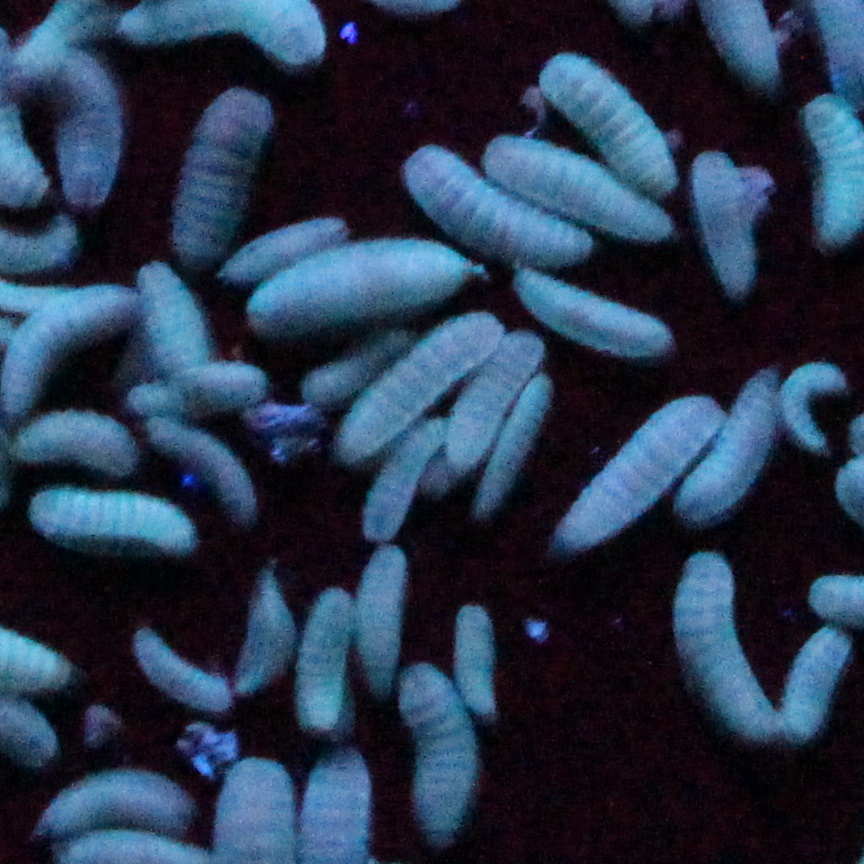larve: (547, 388, 725, 548), (398, 138, 590, 278), (674, 552, 796, 767), (334, 314, 509, 459), (165, 79, 281, 267), (252, 234, 474, 332), (481, 134, 674, 245), (529, 56, 678, 194), (25, 32, 136, 199), (1, 283, 141, 412), (685, 358, 792, 521), (512, 263, 672, 370), (398, 668, 489, 834), (27, 479, 210, 558), (143, 403, 267, 516), (690, 147, 772, 305), (445, 332, 543, 456), (360, 407, 449, 536), (38, 767, 203, 836), (474, 378, 554, 519), (212, 210, 347, 287), (127, 630, 245, 714), (138, 256, 210, 387), (7, 412, 149, 472), (354, 541, 409, 690), (232, 565, 296, 688), (136, 359, 278, 414), (783, 625, 850, 741), (296, 592, 352, 728), (449, 598, 509, 721), (783, 354, 850, 454)
